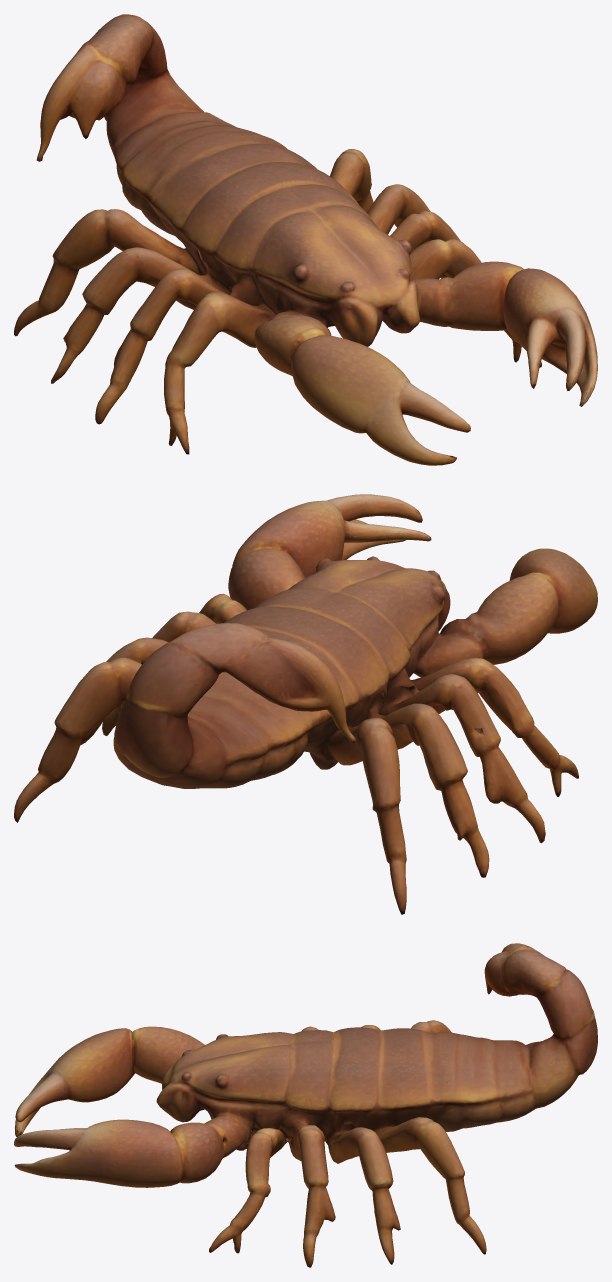
3 renders of one model, top to bottom at view 1: azimuth 30°, elevation 25°; view 2: azimuth 150°, elevation 25°; view 3: azimuth 270°, elevation 25°, orthographic. The views are drawn at different scales.
Visible parts, largest first — view 1: world; view 2: world; view 3: world.
Boxes of the visible parts, left/top/right/bottom form: world: left=14, top=14, right=597, bottom=465; world: left=14, top=494, right=597, bottom=914; world: left=14, top=943, right=597, bottom=1267.
Bounding box in the file's own units: 0.2661 × 0.1618 × 0.4.
1 material, 1 textured.
